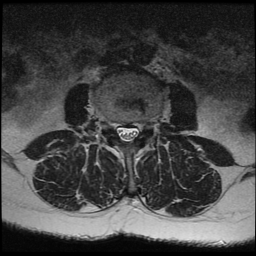CCS_severe_stenosis: (123, 116, 131, 152)
LFS_normal: (139, 113, 148, 138)
LLS_normal: (131, 116, 139, 147)
RFS_normal: (107, 110, 115, 137)
RLS_normal: (115, 116, 123, 145)
